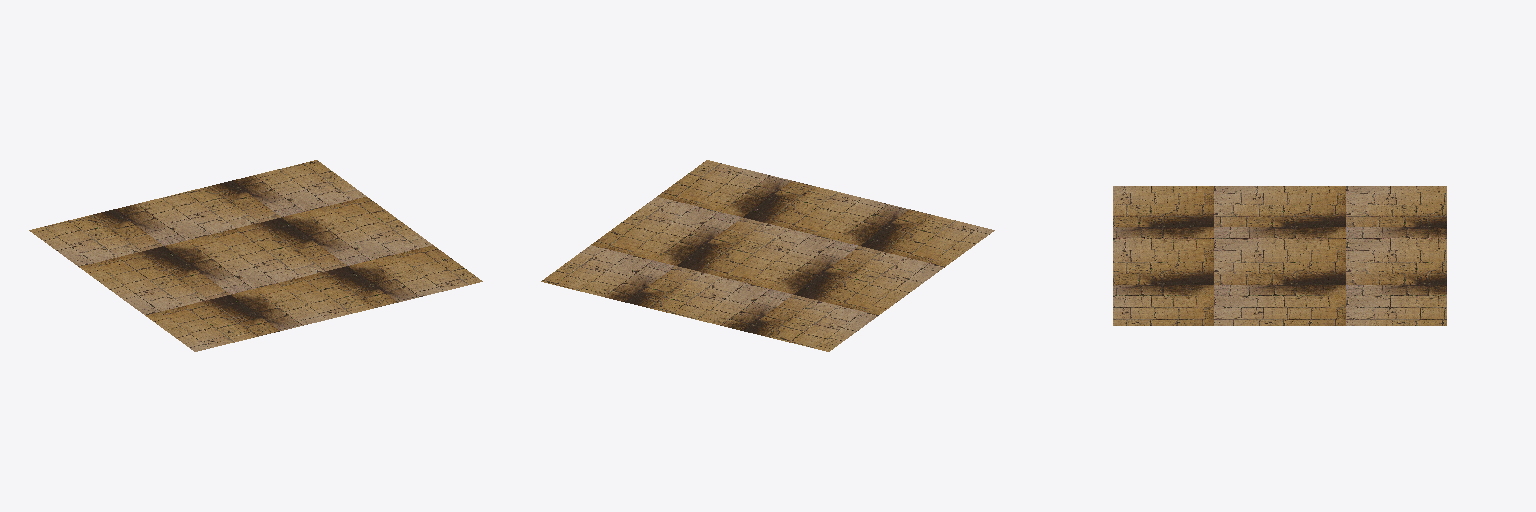
3 views of the same model, side by side, from view 1: azimuth 30°, elevation 25°; view 2: azimuth 150°, elevation 25°; view 3: azimuth 270°, elevation 25° (orthographic).
Parts seen in each view (by area): view 1: mesh01; view 2: mesh01; view 3: mesh01.
Boxes of the visible parts, box(x1,y1,x2,y2) form: mesh01: box(29, 160, 482, 351); mesh01: box(541, 160, 994, 351); mesh01: box(1113, 186, 1446, 325).
Size of the model in its own units: 50 by 0 by 50.
Materials: 1 (1 with a texture image).